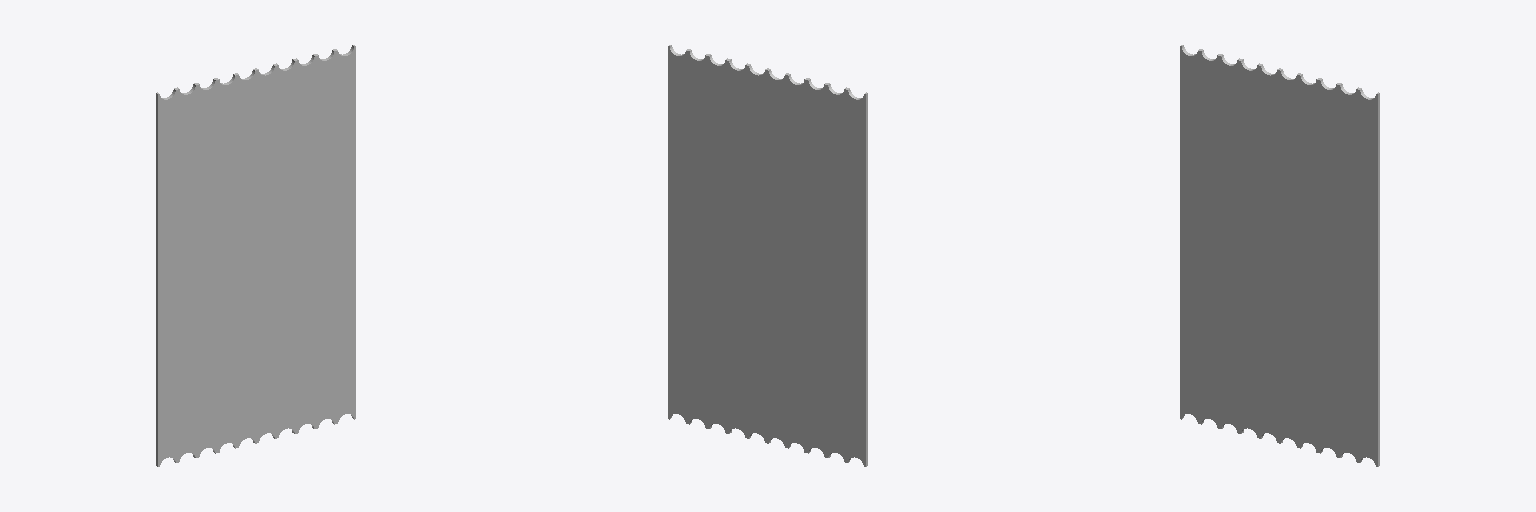
Rendered from ticket.obj.
3 views of the same model, side by side, from view 1: azimuth 30°, elevation 25°; view 2: azimuth 150°, elevation 25°; view 3: azimuth 330°, elevation 25° (orthographic).
Visible parts, largest first — view 1: Cube; view 2: Cube; view 3: Cube.
Part boxes in pixels (x1,y1,x2,y2): Cube: (156, 45, 355, 466); Cube: (668, 45, 867, 466); Cube: (1180, 45, 1379, 466).
Size of the model in its own units: 100 by 180 by 2.